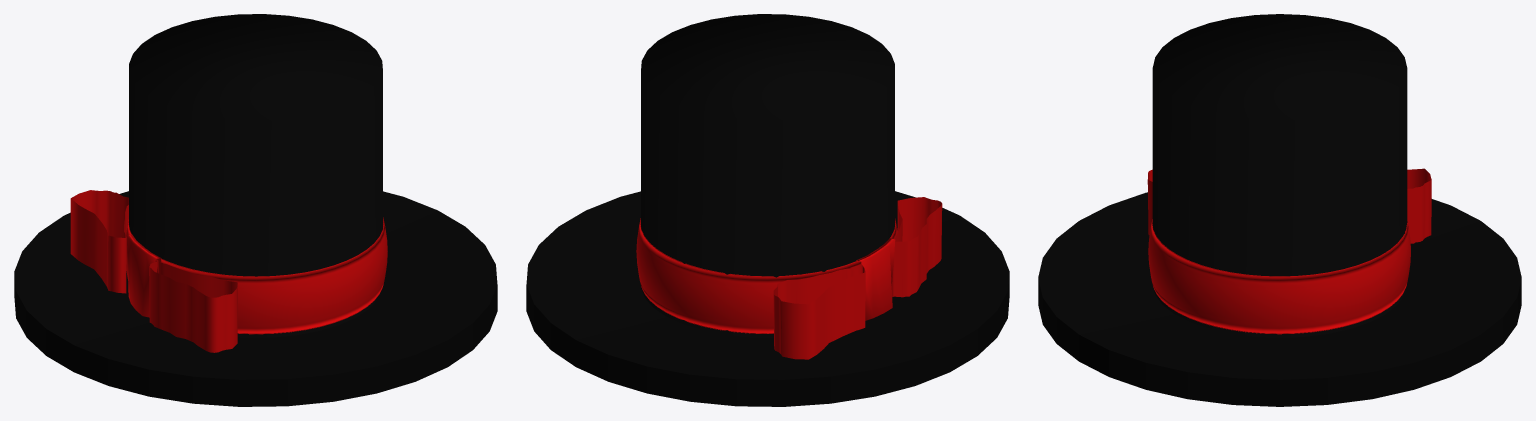
Rendered from âVâïâNânâbâg(âèâ{âô).fbx.
3 views of the same model, side by side, from view 1: azimuth 30°, elevation 25°; view 2: azimuth 150°, elevation 25°; view 3: azimuth 270°, elevation 25° (orthographic).
Visible parts, largest first — view 1: シルクハット, 帯.001, リボン右, リボン左, リボン留め; view 2: シルクハット, 帯.001, リボン左, リボン右, リボン留め; view 3: シルクハット, 帯.001, リボン左.
Part boxes in pixels (<box>): シルクハット: <box>14,14,497,406</box>; 帯.001: <box>126,217,387,334</box>; リボン右: <box>149,259,237,352</box>; リボン左: <box>70,190,128,293</box>; リボン留め: <box>127,234,161,317</box>; シルクハット: <box>526,14,1009,406</box>; 帯.001: <box>636,218,897,333</box>; リボン左: <box>773,264,865,359</box>; リボン右: <box>891,197,942,297</box>; リボン留め: <box>856,238,895,320</box>; シルクハット: <box>1038,14,1521,406</box>; 帯.001: <box>1148,219,1410,334</box>; リボン左: <box>1407,168,1431,243</box>.
Size of the model in its own units: 380 by 206 by 380.
